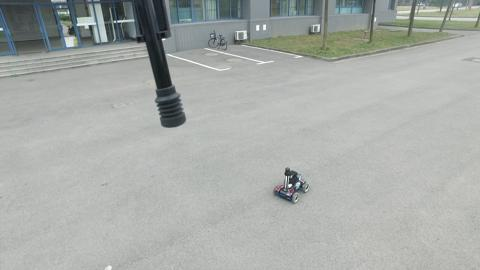chariot: (276, 156, 314, 207)
